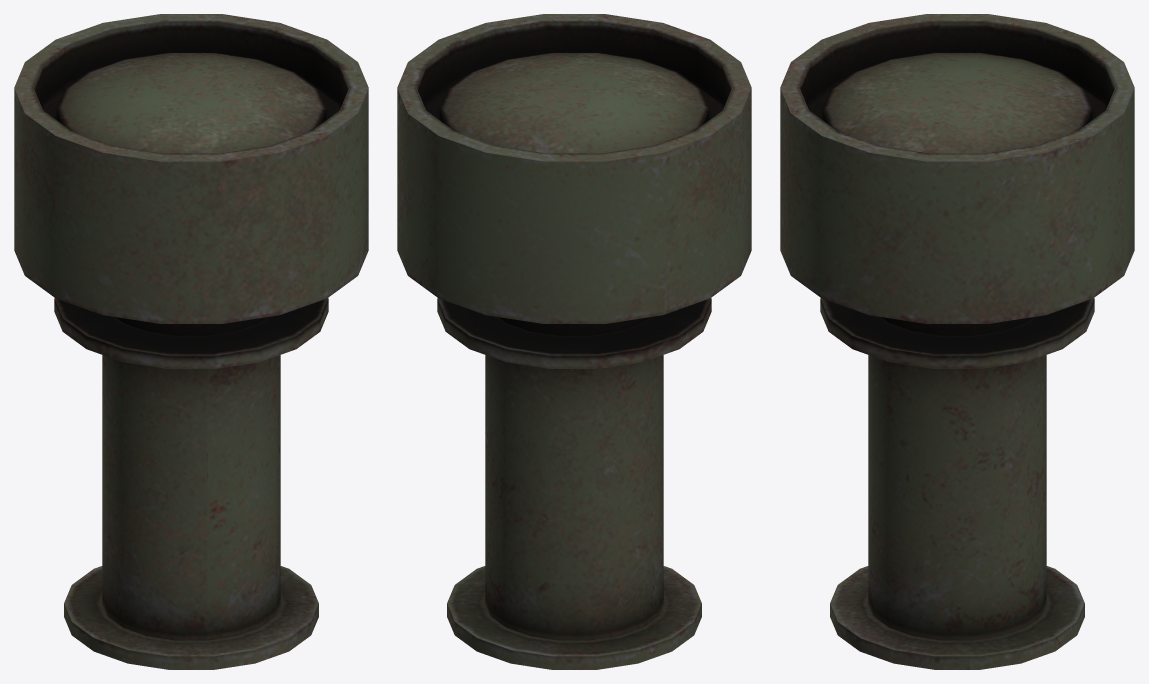
The model's file is Vent_07.fbx.
The picture shows the model from 3 angles, left to right: view 1: azimuth 30°, elevation 25°; view 2: azimuth 150°, elevation 25°; view 3: azimuth 270°, elevation 25°; orthographic projection.
Parts seen in each view (by area): view 1: Vent_7; view 2: Vent_7; view 3: Vent_7.
Part boxes in pixels (x1,y1,x2,y2): Vent_7: (14, 14, 368, 669); Vent_7: (397, 14, 751, 669); Vent_7: (780, 14, 1134, 669).
Size of the model in its own units: 93.26 by 156 by 94.7.
